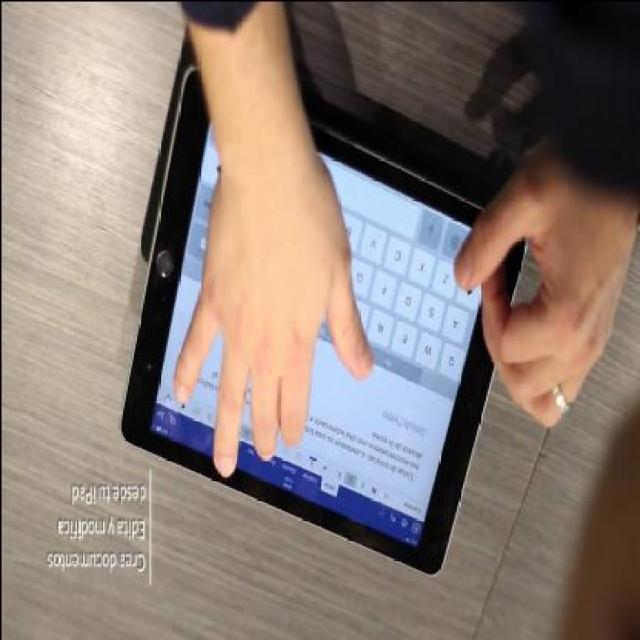tablet: (118, 31, 480, 578)
